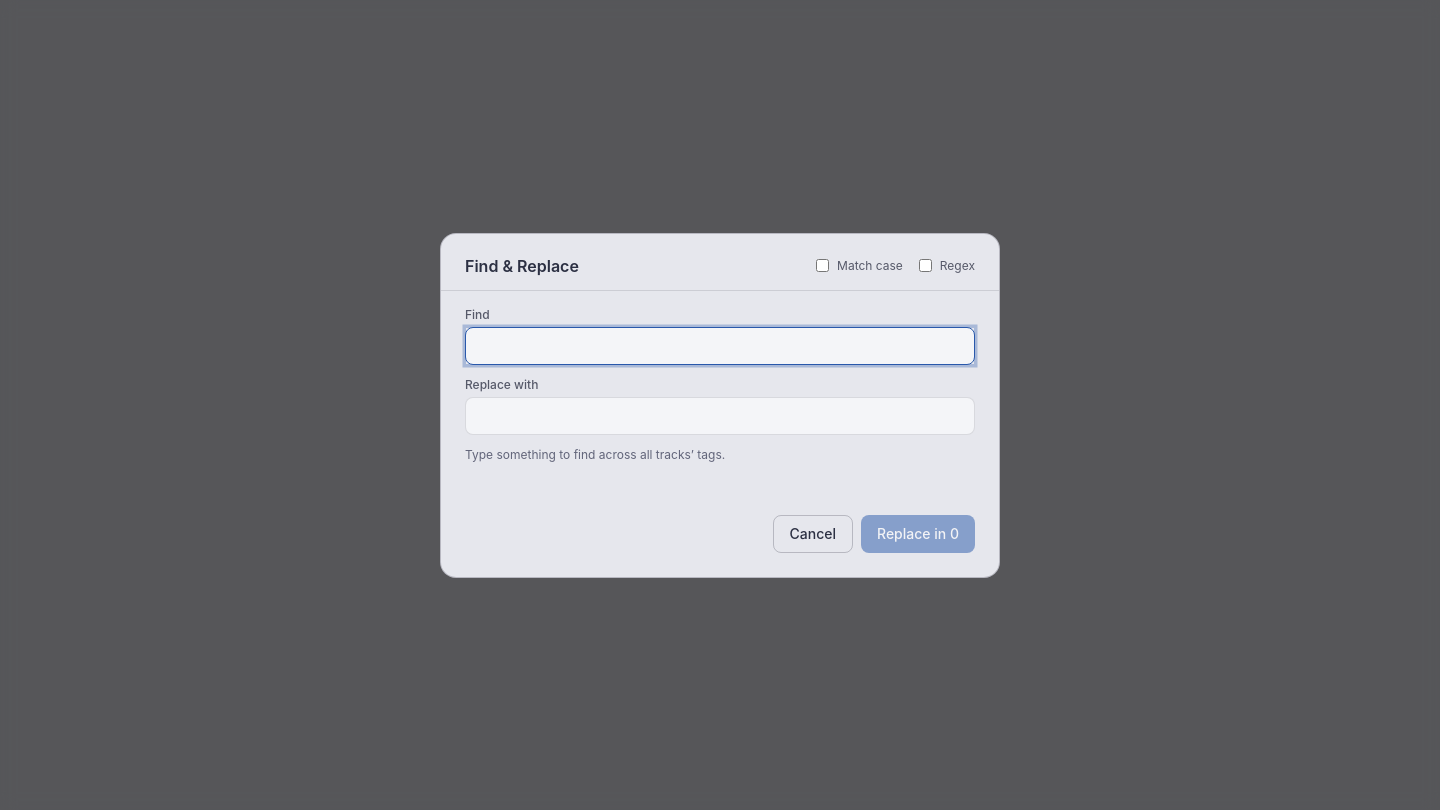
Test: FindReplaceModal › frames the find field with regex delimiter slashes only in regex mode
Click the checkbox with test id "find-replace-regex": click(925, 266) [919,259,932,272]
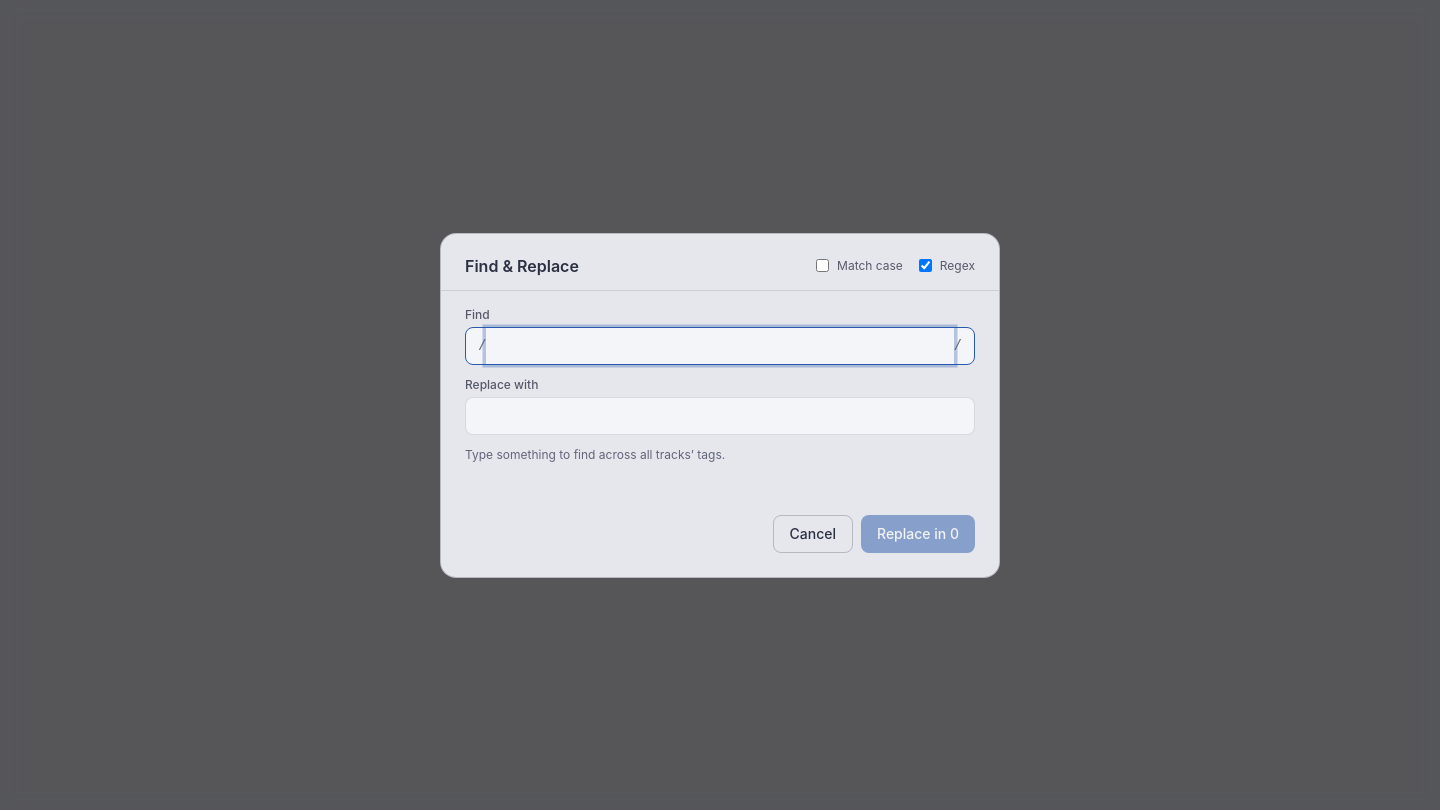
Now the text with test id "find-replace-regex-slashes" is shown, box [478,338,486,354]
